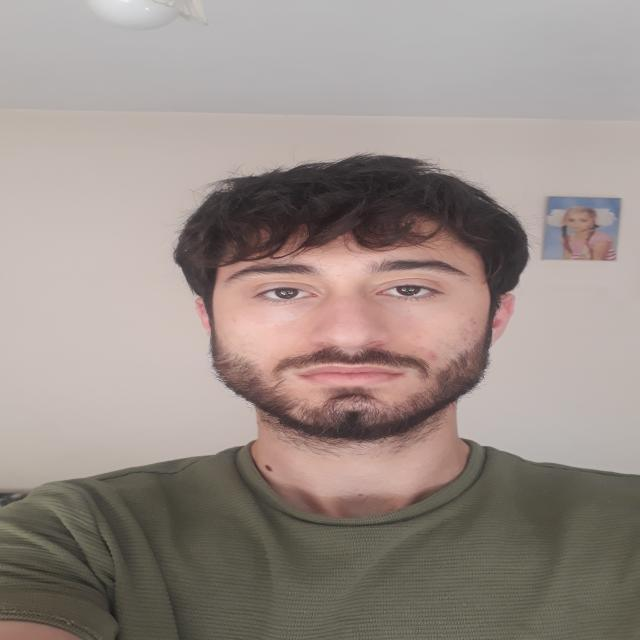acne: (428, 348, 440, 362), (459, 328, 477, 334), (468, 318, 478, 326), (416, 346, 428, 352), (229, 316, 237, 324), (410, 334, 420, 339), (308, 388, 316, 394), (461, 337, 468, 343)
